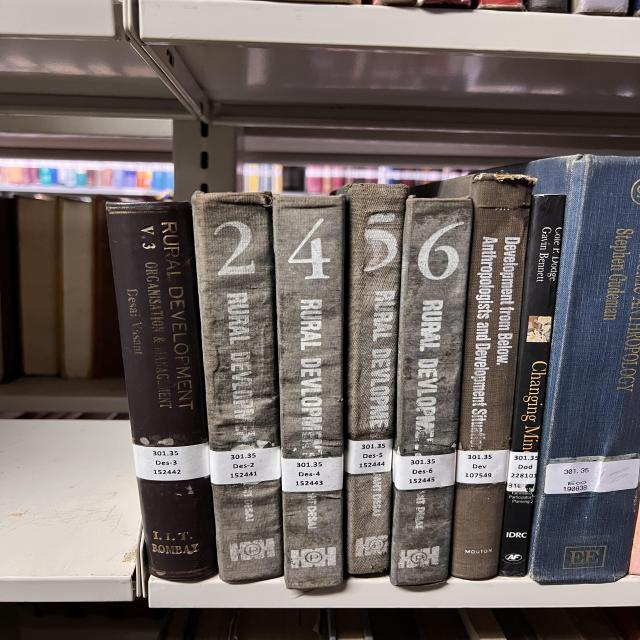Book: (528, 155, 640, 584), (107, 201, 217, 580), (438, 174, 535, 580), (192, 192, 282, 582), (390, 198, 473, 585), (335, 184, 408, 575), (273, 195, 345, 590), (498, 194, 565, 576)
Label: (545, 459, 640, 494), (133, 442, 210, 481), (210, 446, 282, 485), (393, 452, 457, 490), (282, 456, 343, 492), (457, 450, 510, 484), (345, 439, 393, 474), (507, 451, 538, 491)
